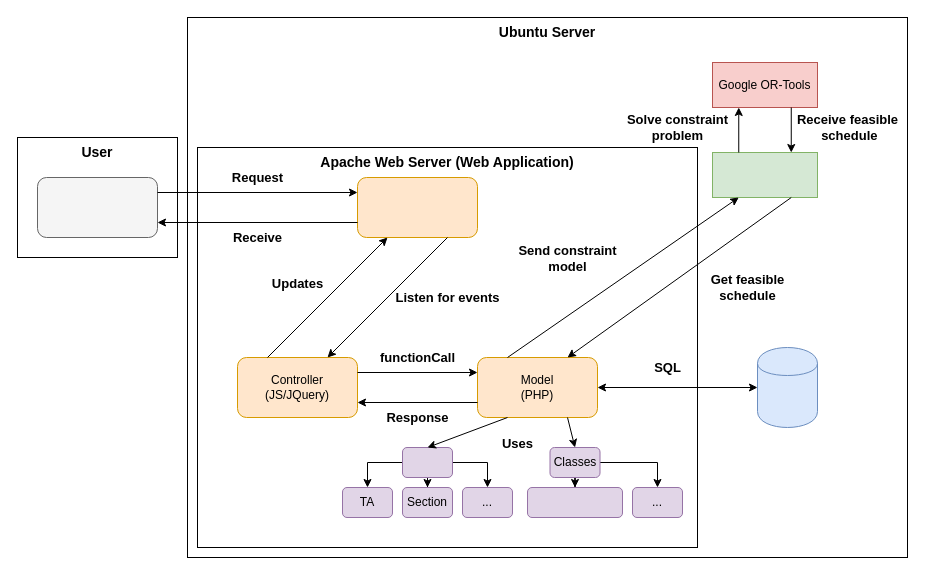
The diagram is 925 pixels wide and 575 high, and some of its shapes have lost their labels. The box of each missing label's shape, as (x1, y1, x2, y2) in pixels:
Browser: (36, 176, 158, 238)
MySQL DB: (756, 346, 818, 428)
Objects: (402, 446, 452, 478)
Python3: (712, 152, 818, 198)
SectionManager: (526, 486, 622, 518)
View (HTML): (356, 176, 478, 238)
